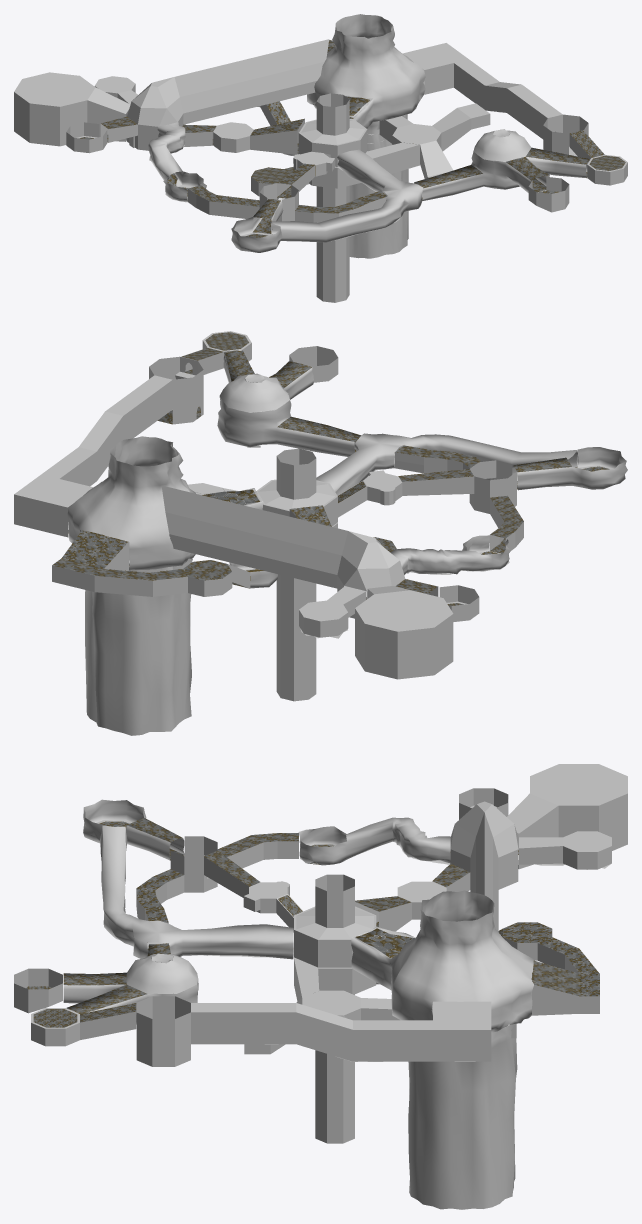
The model's file is Level 1 Textured Blockout.fbx.
3 renders of one model, top to bottom at view 1: azimuth 30°, elevation 25°; view 2: azimuth 150°, elevation 25°; view 3: azimuth 270°, elevation 25°, orthographic. The views are drawn at different scales.
Parts seen in each view (by area): view 1: SE Ossuary, Plane.001, Main Cistern, E Chasm Room, Minecart Room, Ossuary, S Cistern Room, Minecart Track Room, E Cistern Room, NW Cistern Room, N Minecart Track Room, W Minecart Track ROom (+7 smaller); view 2: Plane.001, SE Ossuary, E Chasm Room, Minecart Room, Main Cistern, Ossuary, Cistern x Chasm Connector, Minecart Track Room, S Cistern Room, W Minecart Track ROom, N Minecart Track Room, E Ossuary (+5 smaller); view 3: Plane.001, E Chasm Room, Main Cistern, S Cistern Room, Ossuary, Minecart Track Room, SE Ossuary, Cistern x Chasm Connector, Minecart Room, N Minecart Track Room, SE Minecart Room, W Minecart Track ROom (+6 smaller).
Part boxes in pixels (x1,y1,x2,y2): SE Ossuary: [100, 39, 329, 150]; Plane.001: [307, 14, 425, 258]; Main Cistern: [298, 93, 419, 302]; E Chasm Room: [402, 43, 588, 156]; Minecart Room: [414, 129, 590, 201]; Ossuary: [14, 72, 130, 146]; S Cistern Room: [271, 149, 422, 242]; Minecart Track Room: [188, 163, 387, 222]; E Cistern Room: [379, 103, 490, 178]; NW Cistern Room: [213, 118, 304, 154]; N Minecart Track Room: [148, 122, 206, 201]; W Minecart Track ROom: [231, 199, 283, 252]; Plane.001: [67, 436, 263, 735]; SE Ossuary: [161, 485, 438, 618]; E Chasm Room: [14, 356, 203, 537]; Minecart Room: [217, 350, 361, 456]; Main Cistern: [223, 448, 337, 701]; Ossuary: [355, 586, 453, 679]; Cistern x Chasm Connector: [52, 530, 250, 596]; Minecart Track Room: [394, 445, 523, 553]; S Cistern Room: [316, 433, 578, 495]; W Minecart Track ROom: [512, 447, 627, 490]; N Minecart Track Room: [390, 535, 511, 574]; E Ossuary: [299, 586, 366, 637]; Plane.001: [351, 890, 533, 1209]; E Chasm Room: [136, 996, 491, 1066]; Main Cistern: [294, 874, 376, 1143]; S Cistern Room: [100, 825, 293, 959]; Ossuary: [507, 764, 627, 869]; Minecart Track Room: [136, 833, 298, 923]; SE Ossuary: [432, 801, 518, 931]; Cistern x Chasm Connector: [498, 922, 599, 1015]; Minecart Room: [63, 943, 198, 1024]; N Minecart Track Room: [298, 817, 450, 865]; SE Minecart Room: [31, 1003, 136, 1046]; W Minecart Track ROom: [83, 799, 184, 860].
Size of the model in its own units: 33952 by 17510 by 34899.
